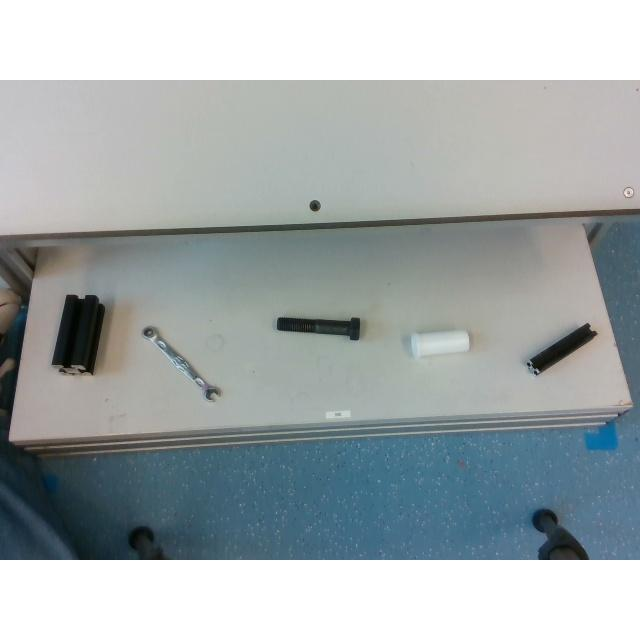F20_20_B: (526, 323, 598, 373)
M20_100: (276, 316, 360, 338)
S40_40_B: (52, 294, 104, 372)
Spacer: (411, 328, 469, 356)
Wrench: (141, 325, 221, 399)
